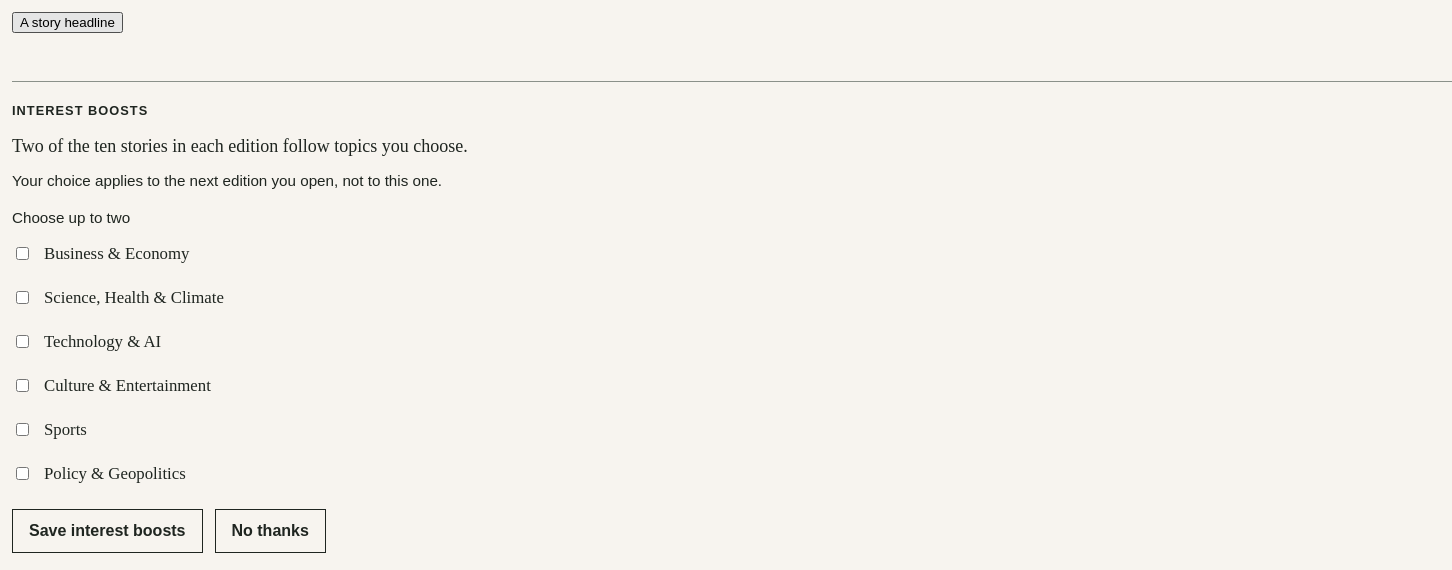
where focus goes › does the same when the reader declines
Click the button "No thanks": (270, 531) [214,509,326,553]
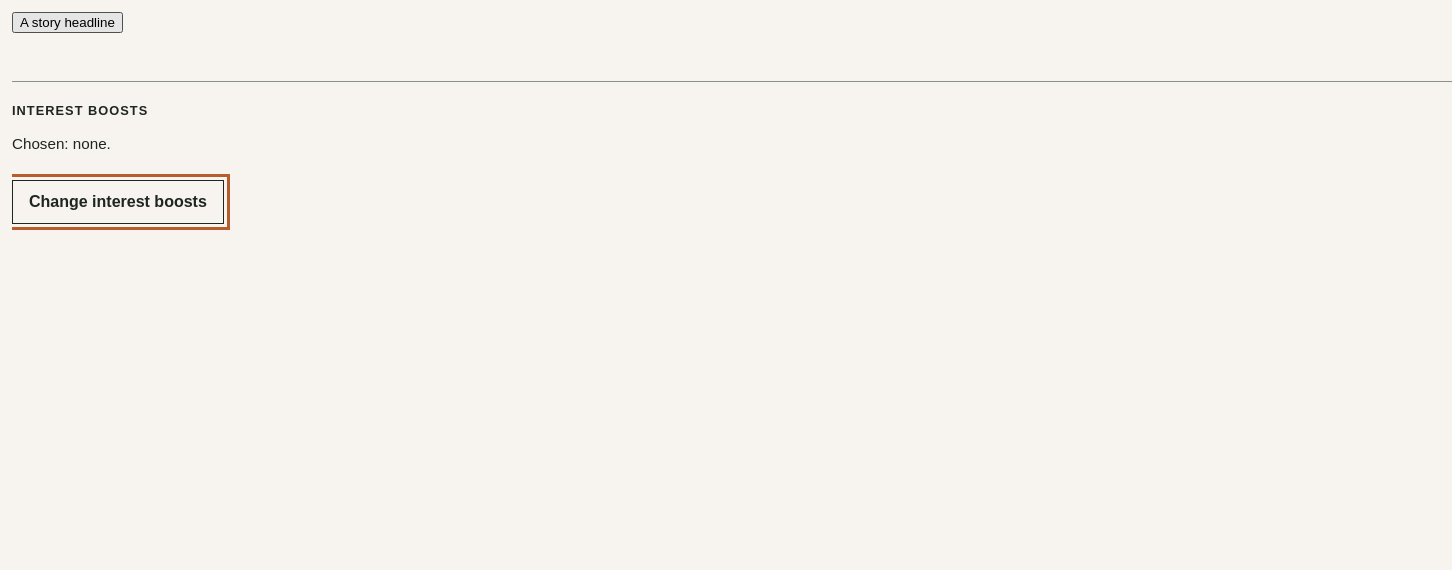
Expected: the element with class "interest-boosts" shows "Chosen: none.", [12,135,111,152]
